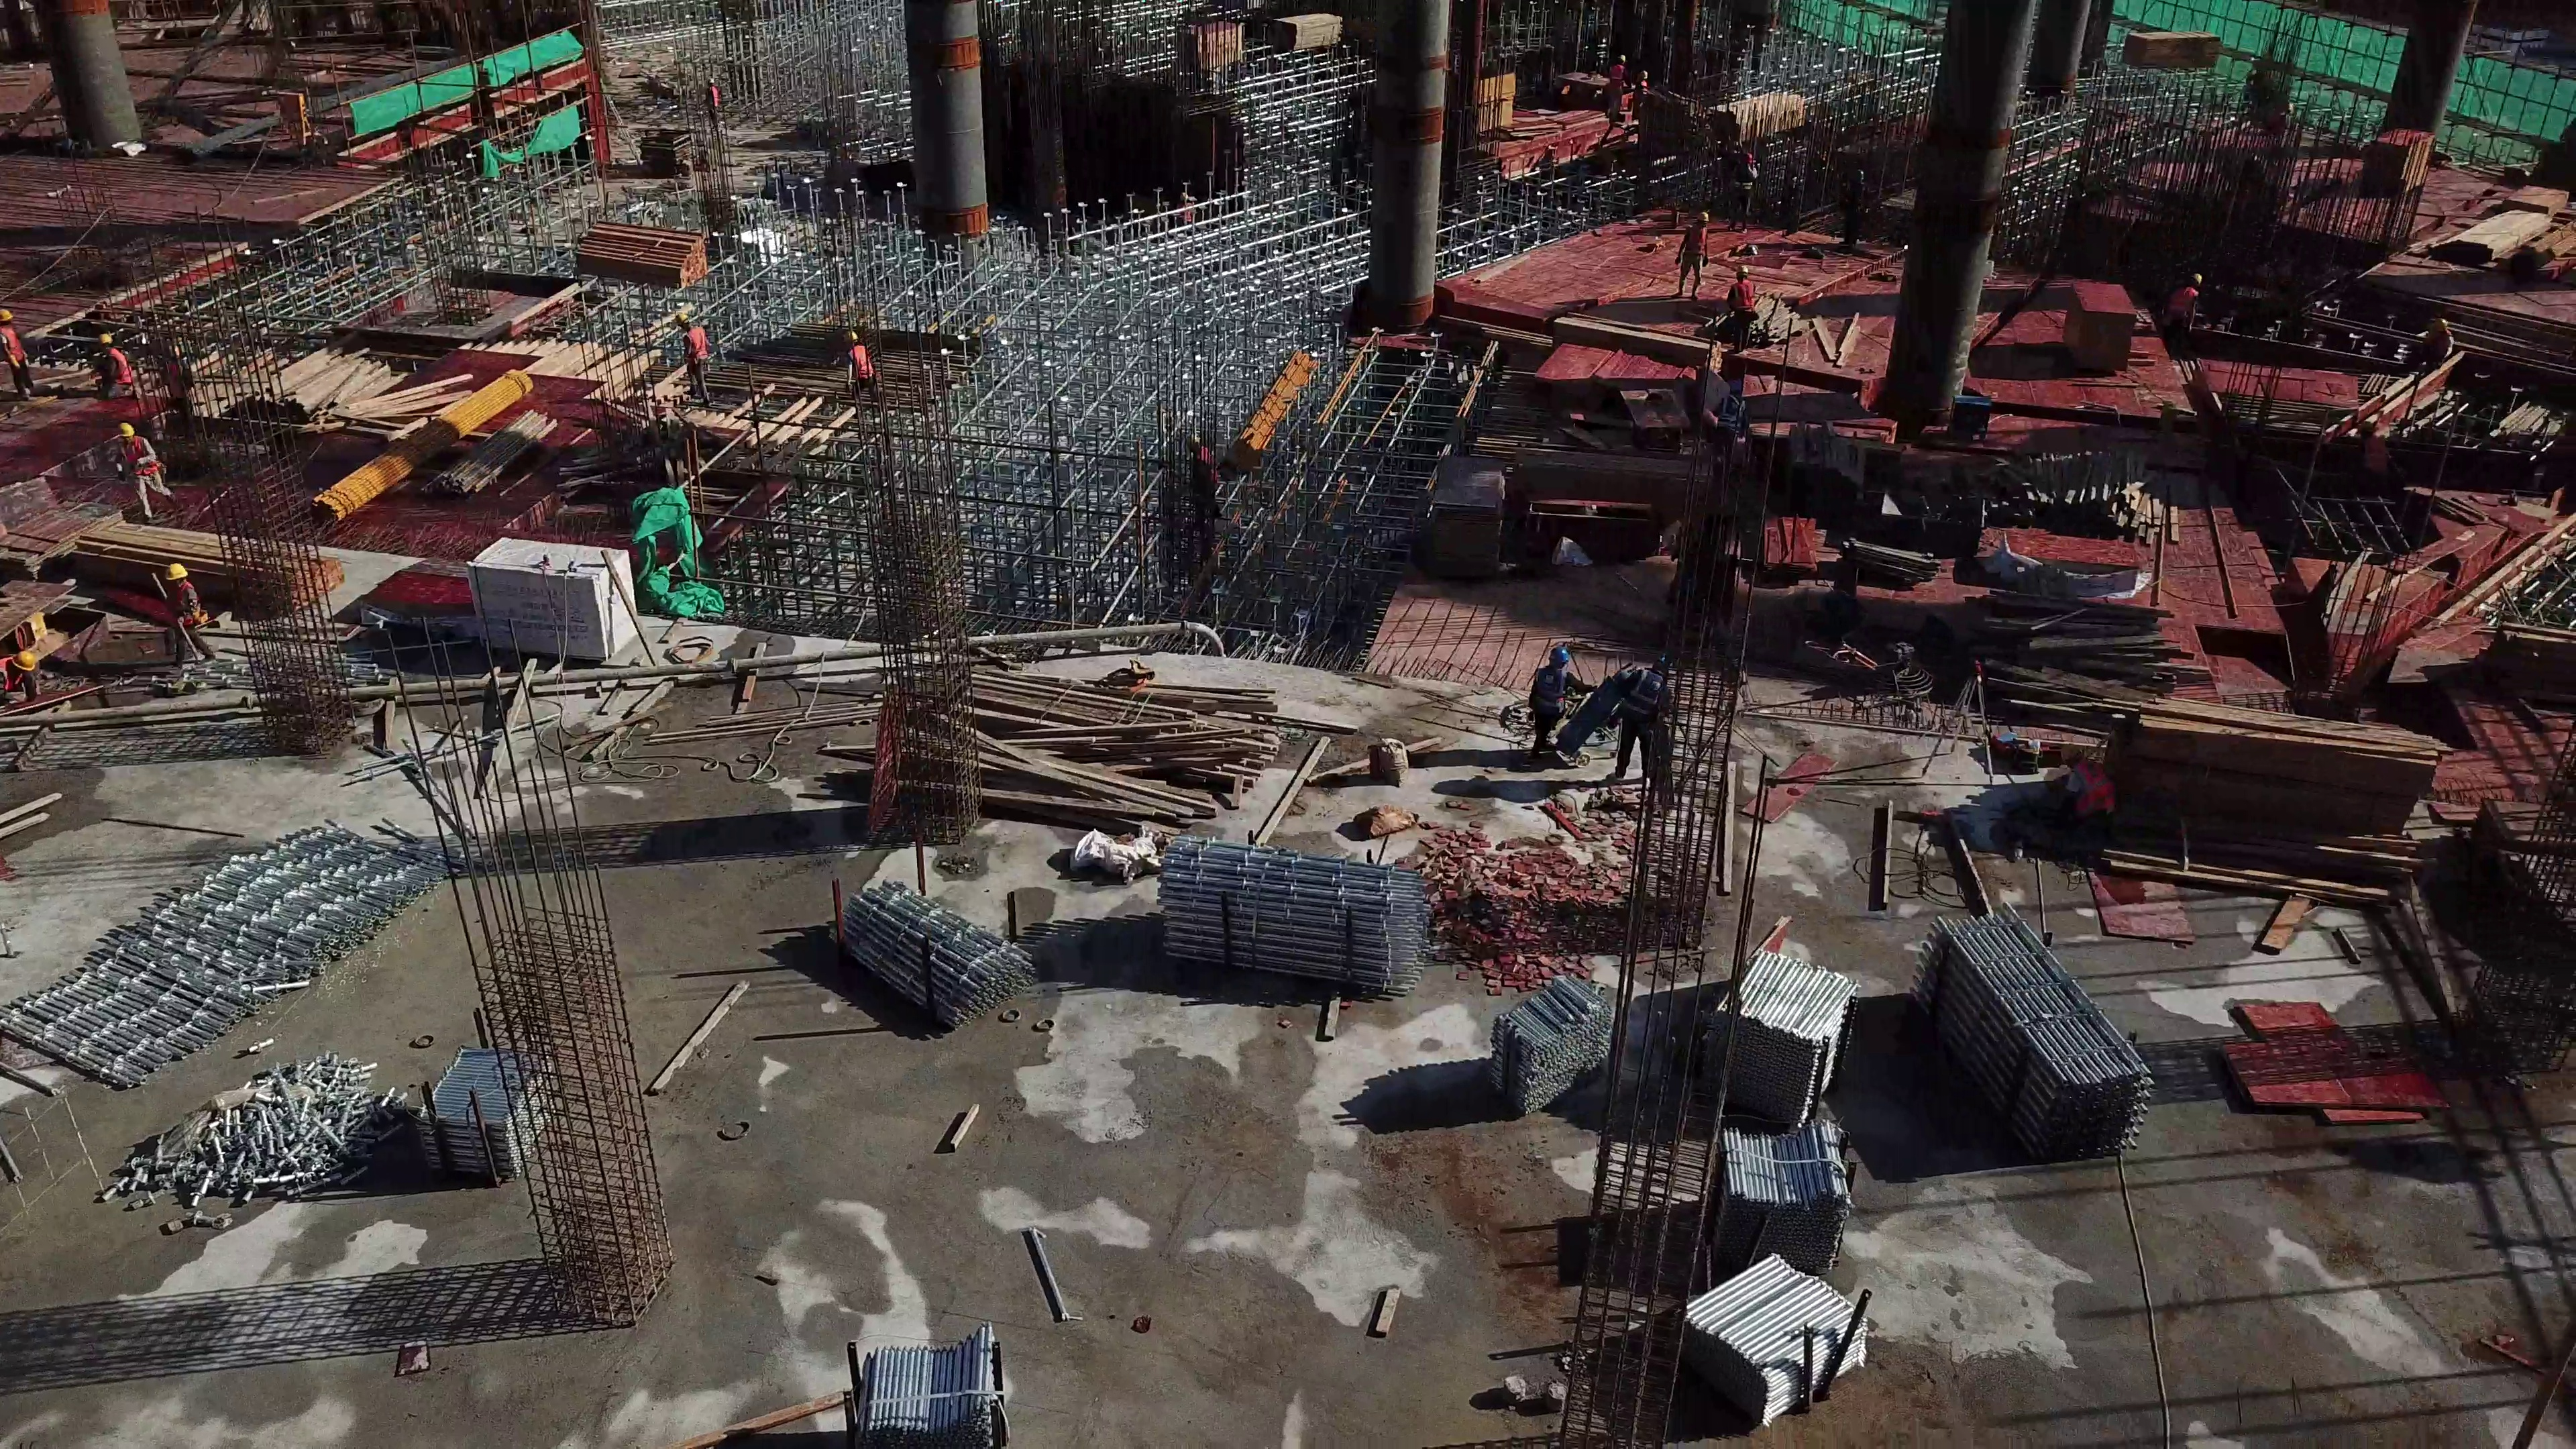board: (1271, 3, 1351, 56)
helmet: (1546, 642, 1571, 669), (160, 560, 189, 582), (1736, 266, 1754, 282), (843, 330, 862, 350), (671, 313, 693, 328), (115, 423, 133, 437), (1695, 210, 1711, 224)
person: (1617, 647, 1678, 804), (153, 560, 225, 672), (106, 425, 174, 524), (1527, 639, 1575, 758), (669, 311, 713, 417), (2155, 258, 2203, 342), (1, 307, 34, 411), (1676, 205, 1710, 304), (1722, 262, 1756, 350), (845, 323, 879, 411), (91, 335, 133, 405)
scaffold: (1, 818, 459, 1101), (1915, 901, 2151, 1165), (1145, 821, 1435, 1011), (1663, 1249, 1876, 1425), (828, 874, 1041, 1046), (1709, 939, 1866, 1134), (1699, 1111, 1868, 1275), (1475, 971, 1636, 1124)
vest: (113, 440, 161, 477)
wood: (2085, 685, 2445, 854), (1991, 430, 2182, 550), (1223, 340, 1320, 479), (563, 220, 720, 296)
